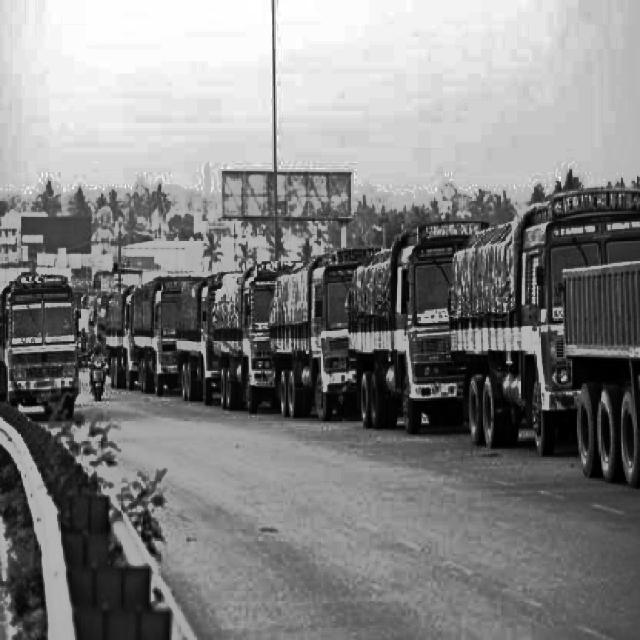HCV: (416, 202, 622, 438), (363, 214, 489, 428), (563, 272, 640, 500), (269, 263, 369, 413), (9, 264, 85, 398), (211, 263, 287, 387), (117, 278, 175, 382), (88, 294, 154, 385), (169, 280, 223, 387), (152, 282, 204, 374)
